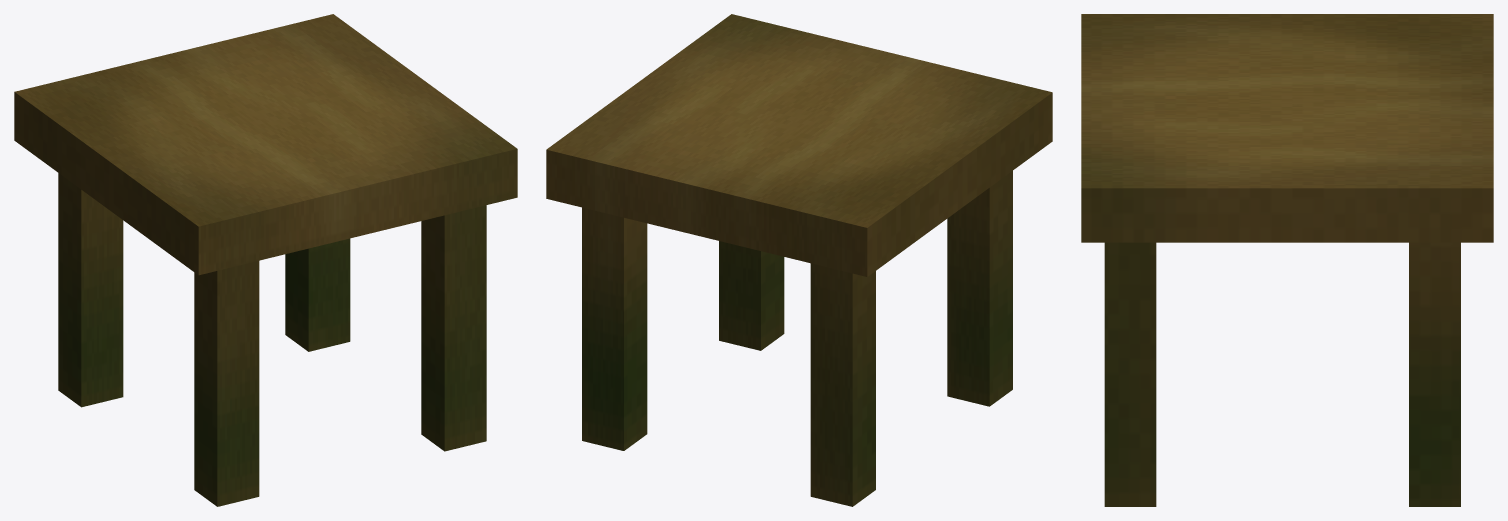
File: stol.fbx
The picture shows the model from 3 angles, left to right: view 1: azimuth 30°, elevation 25°; view 2: azimuth 150°, elevation 25°; view 3: azimuth 270°, elevation 25°; orthographic projection. The views are drawn at different scales.
Parts seen in each view (by area): view 1: Cube.010; view 2: Cube.010; view 3: Cube.010.
Part boxes in pixels (<box>): Cube.010: <box>14,14,517,506</box>; Cube.010: <box>546,14,1052,506</box>; Cube.010: <box>1081,14,1493,506</box>.
Bounding box in the file's own units: 200 × 177 × 200.
